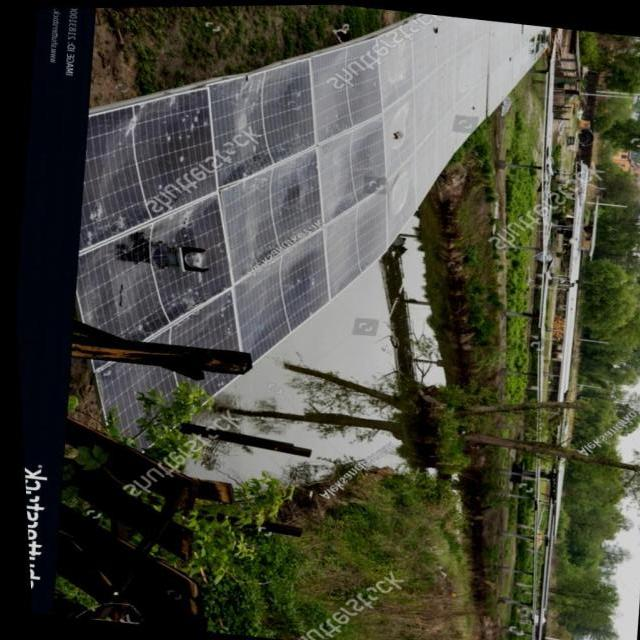cracked: (82, 43, 380, 446)
